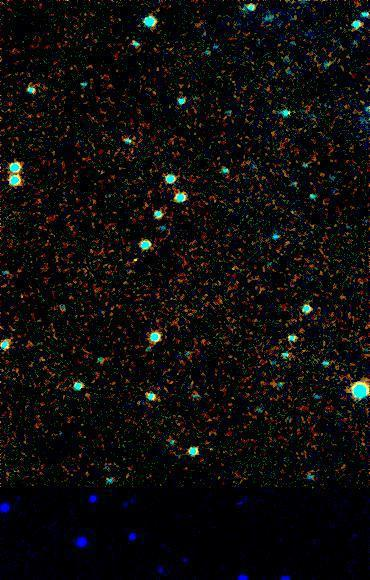star: (119, 244, 149, 274)
